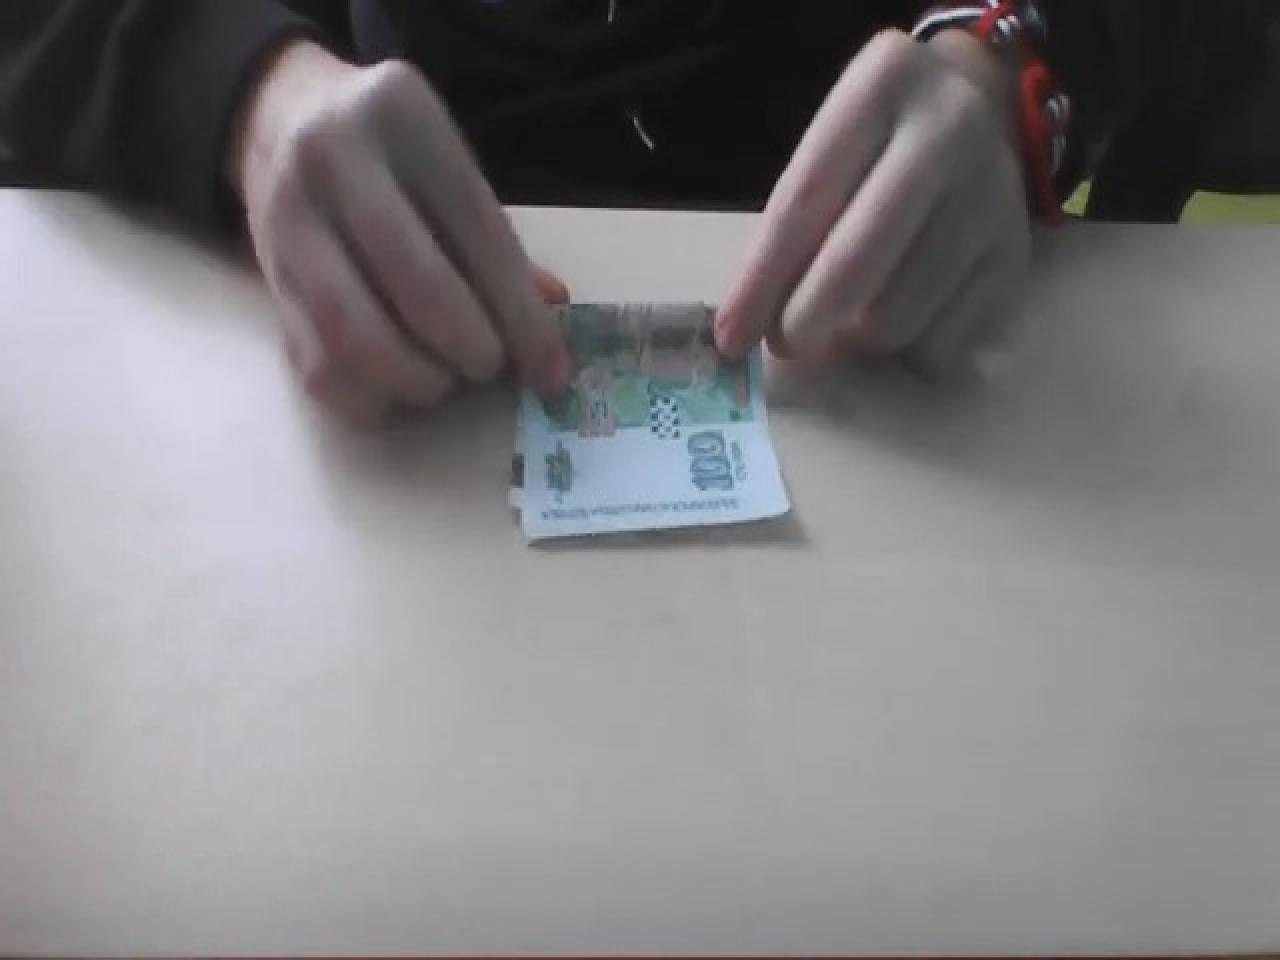100leva: (510, 302, 796, 544)
